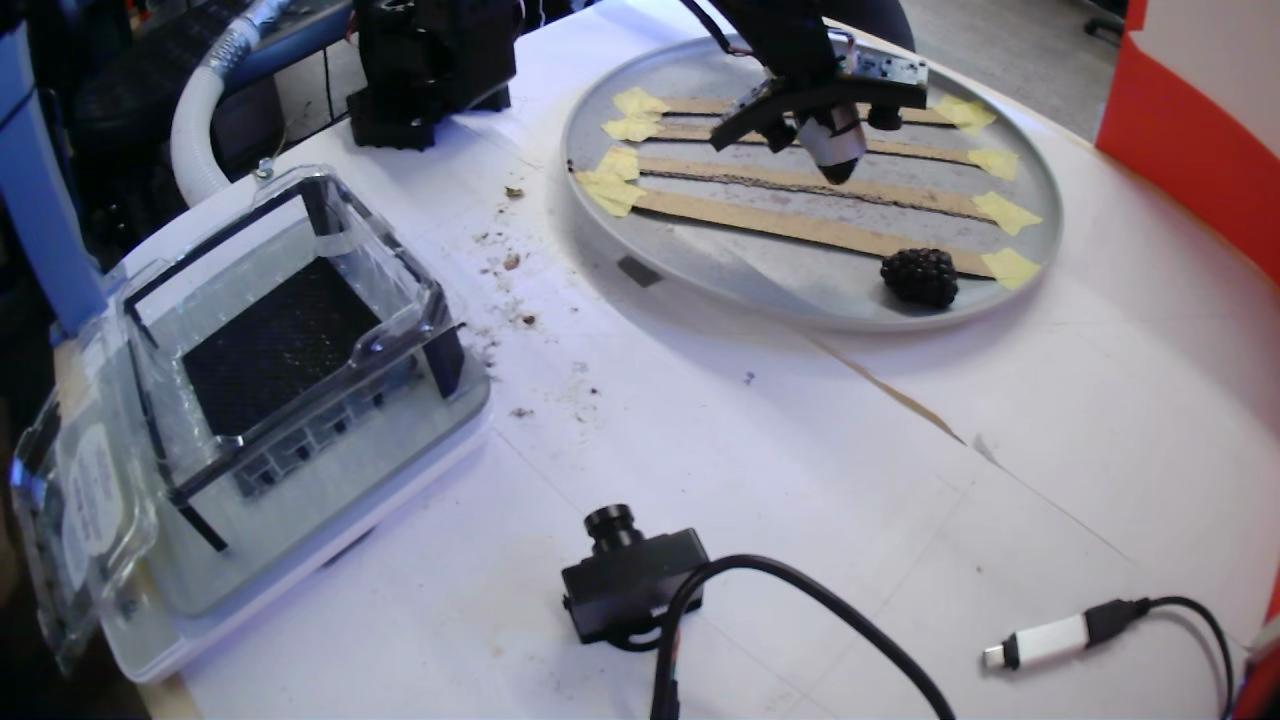berry: (880, 248, 958, 309)
